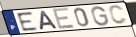0: (73, 7, 91, 28)
A: (39, 10, 59, 31)
C: (108, 4, 129, 25)
E: (52, 7, 76, 31), (16, 11, 40, 33)
G: (91, 6, 110, 27)
